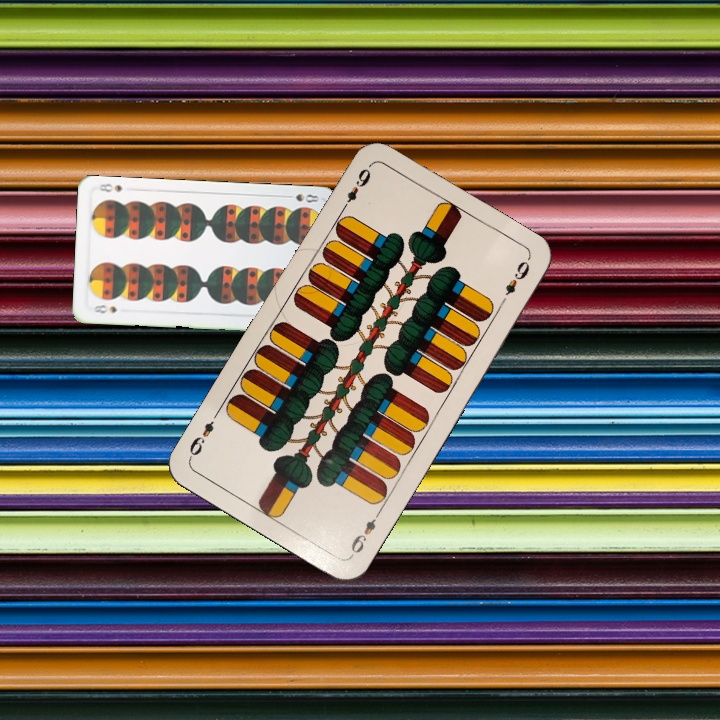E9: (346, 506, 384, 559), (337, 164, 374, 214)
S8: (281, 190, 321, 205), (90, 301, 119, 316)
